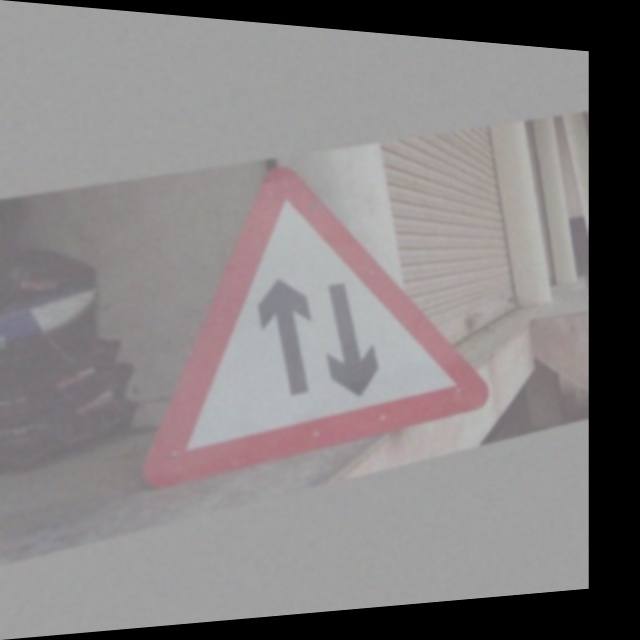Mandatory_Two_Way_Traffic: (119, 121, 488, 497)
